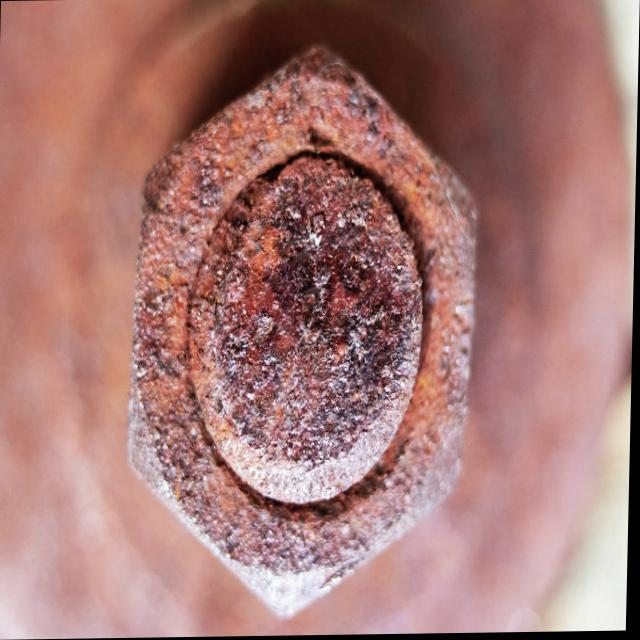Rusty bolt: (128, 40, 481, 622)
